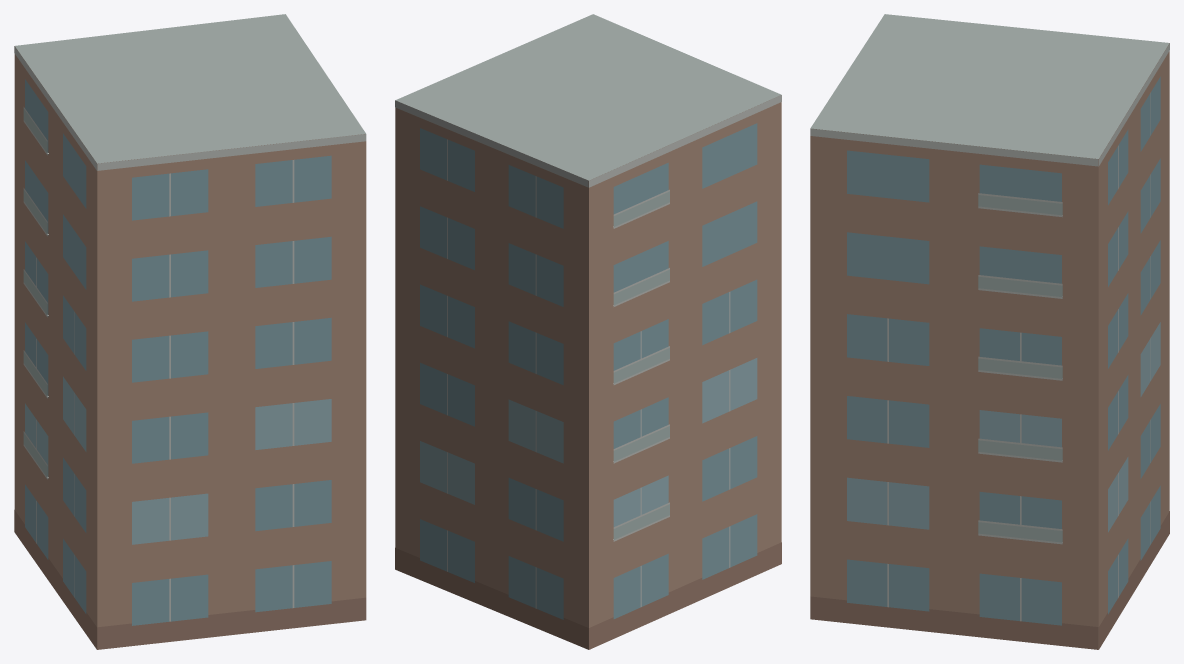
Rendered from survey-upis-32850276.glb.
The picture shows the model from 3 angles, left to right: view 1: azimuth 30°, elevation 25°; view 2: azimuth 150°, elevation 25°; view 3: azimuth 270°, elevation 25°; orthographic projection. The views are drawn at different scales.
Visible parts, largest first — view 1: survey-upis-32850276.tmp; view 2: survey-upis-32850276.tmp; view 3: survey-upis-32850276.tmp.
Boxes of the visible parts, <box> form: survey-upis-32850276.tmp: <box>14,14,366,649</box>; survey-upis-32850276.tmp: <box>395,14,781,649</box>; survey-upis-32850276.tmp: <box>810,14,1169,649</box>.
Size of the model in its own units: 10.15 by 16 by 10.63.
